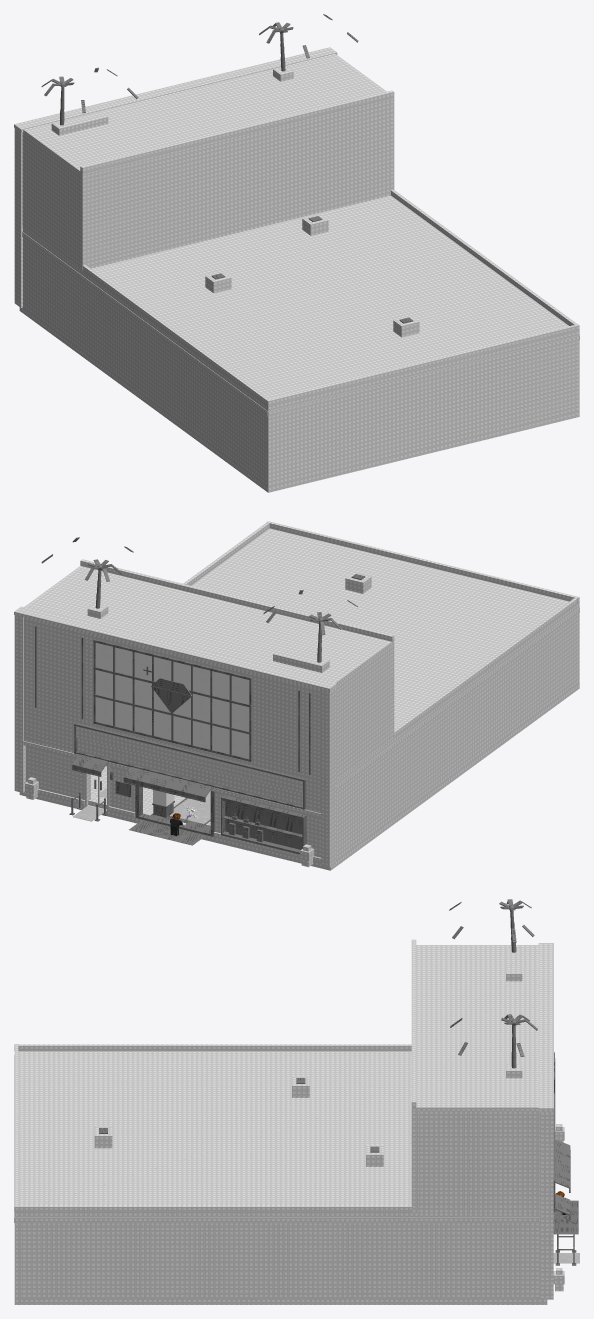
The model's file is casse.obj.
3 views of the same model, one above another, from view 1: azimuth 30°, elevation 25°; view 2: azimuth 150°, elevation 25°; view 3: azimuth 270°, elevation 25° (orthographic). The views are drawn at different scales.
Parts seen in each view (by area): view 1: Roofslab1, Upperback1, Backwall1, Sidewalll1, Upperroof1, Uppersidel1, Floor1, Cornice1, Roofparapet1, Parapetb1, Topbandb1, Parapetl1 (+4 smaller); view 2: Roofslab1, Upperfacade1, Sidewalll1, Upperroof1, Curtainglass1, Uppersidel1, Cornice1, Floor1, Signpart1, Pilasterl1, Parapetb1, Roofparapet1 (+19 smaller); view 3: Roofslab1, Sidewallr1, Upperroof1, Uppersider1, Floor1, Topbandr1, Parapetl1, Parapetr1, Cornice1, Pilasterr1, Roofparapet1, Parapetb1 (+4 smaller).
Part boxes in pixels (x1,y1,x2,y2): Roofslab1: (23, 195, 579, 411); Upperback1: (79, 99, 394, 270); Backwall1: (265, 341, 579, 487); Sidewalll1: (23, 237, 264, 484); Upperroof1: (23, 54, 394, 175); Uppersidel1: (22, 132, 78, 267); Floor1: (19, 307, 579, 492); Cornice1: (14, 47, 337, 132); Roofparapet1: (80, 90, 394, 172); Parapetb1: (266, 324, 579, 405); Topbandb1: (268, 335, 579, 416); Parapetl1: (83, 265, 271, 406); Roofslab1: (191, 528, 579, 784); Upperfacade1: (24, 617, 321, 813); Sidewalll1: (336, 615, 575, 860); Upperroof1: (24, 566, 394, 684); Curtainglass1: (95, 642, 249, 758); Uppersidel1: (336, 645, 390, 780); Cornice1: (14, 606, 337, 691); Floor1: (19, 683, 579, 870); Signpart1: (76, 726, 302, 792); Pilasterl1: (321, 688, 335, 867); Parapetb1: (266, 521, 579, 603); Roofparapet1: (80, 559, 394, 641); Roofslab1: (14, 1051, 539, 1217); Sidewallr1: (22, 1223, 539, 1298); Upperroof1: (411, 945, 538, 1110); Uppersider1: (419, 1110, 539, 1212); Floor1: (14, 1298, 547, 1304); Topbandr1: (14, 1217, 539, 1223); Parapetl1: (14, 1044, 411, 1051); Parapetr1: (14, 1205, 411, 1212); Cornice1: (538, 943, 553, 1111); Pilasterr1: (540, 1111, 553, 1299); Roofparapet1: (411, 939, 416, 1107); Parapetb1: (14, 1044, 18, 1212).
Bounding box in the file's own units: 79.2 × 56.31 × 115.
Materials: 103 (98 with a texture image).
